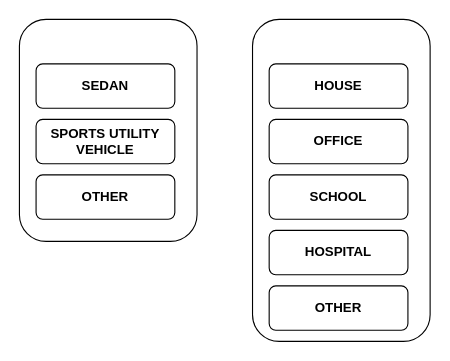
Some shapes in this 450 by 361 pixel diagram are drawn without their labels. The box of each missing label's shape, as (x1, y1, x2, y2) in pixels:
AUTOMOBILE: (18, 18, 197, 241)
BUILDING: (251, 18, 430, 341)
